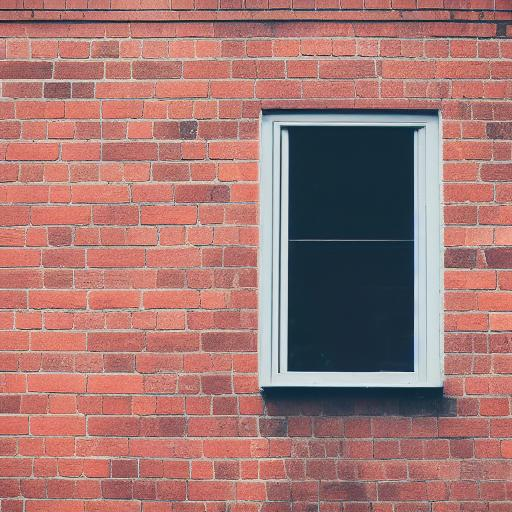Window: (254, 101, 448, 393)
